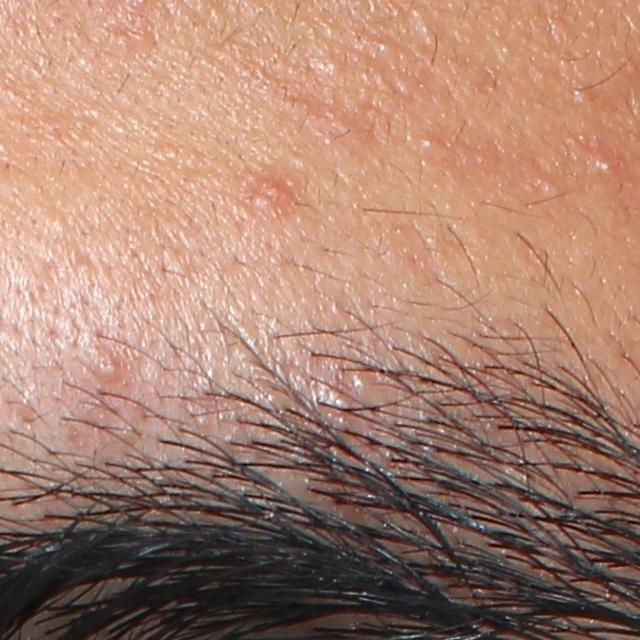comedo: (535, 170, 561, 199), (418, 130, 447, 151), (316, 56, 341, 76)
papule: (251, 180, 286, 210)
